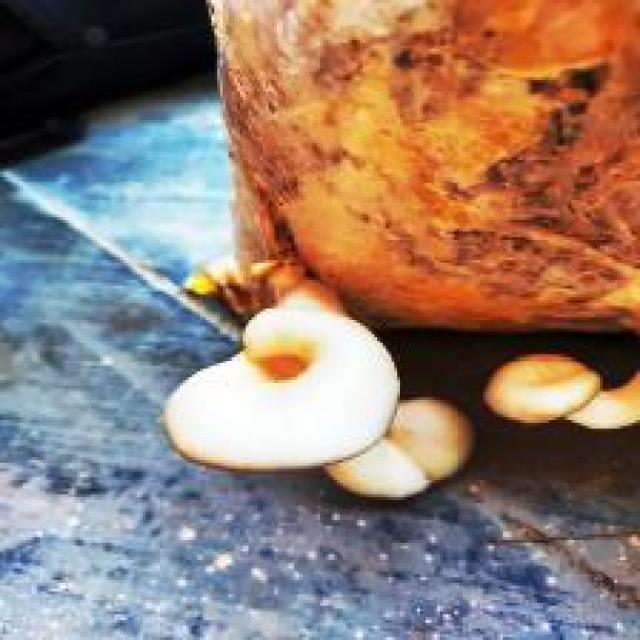chanterelle: (200, 0, 640, 343)
field-mushroom: (163, 288, 403, 472)
